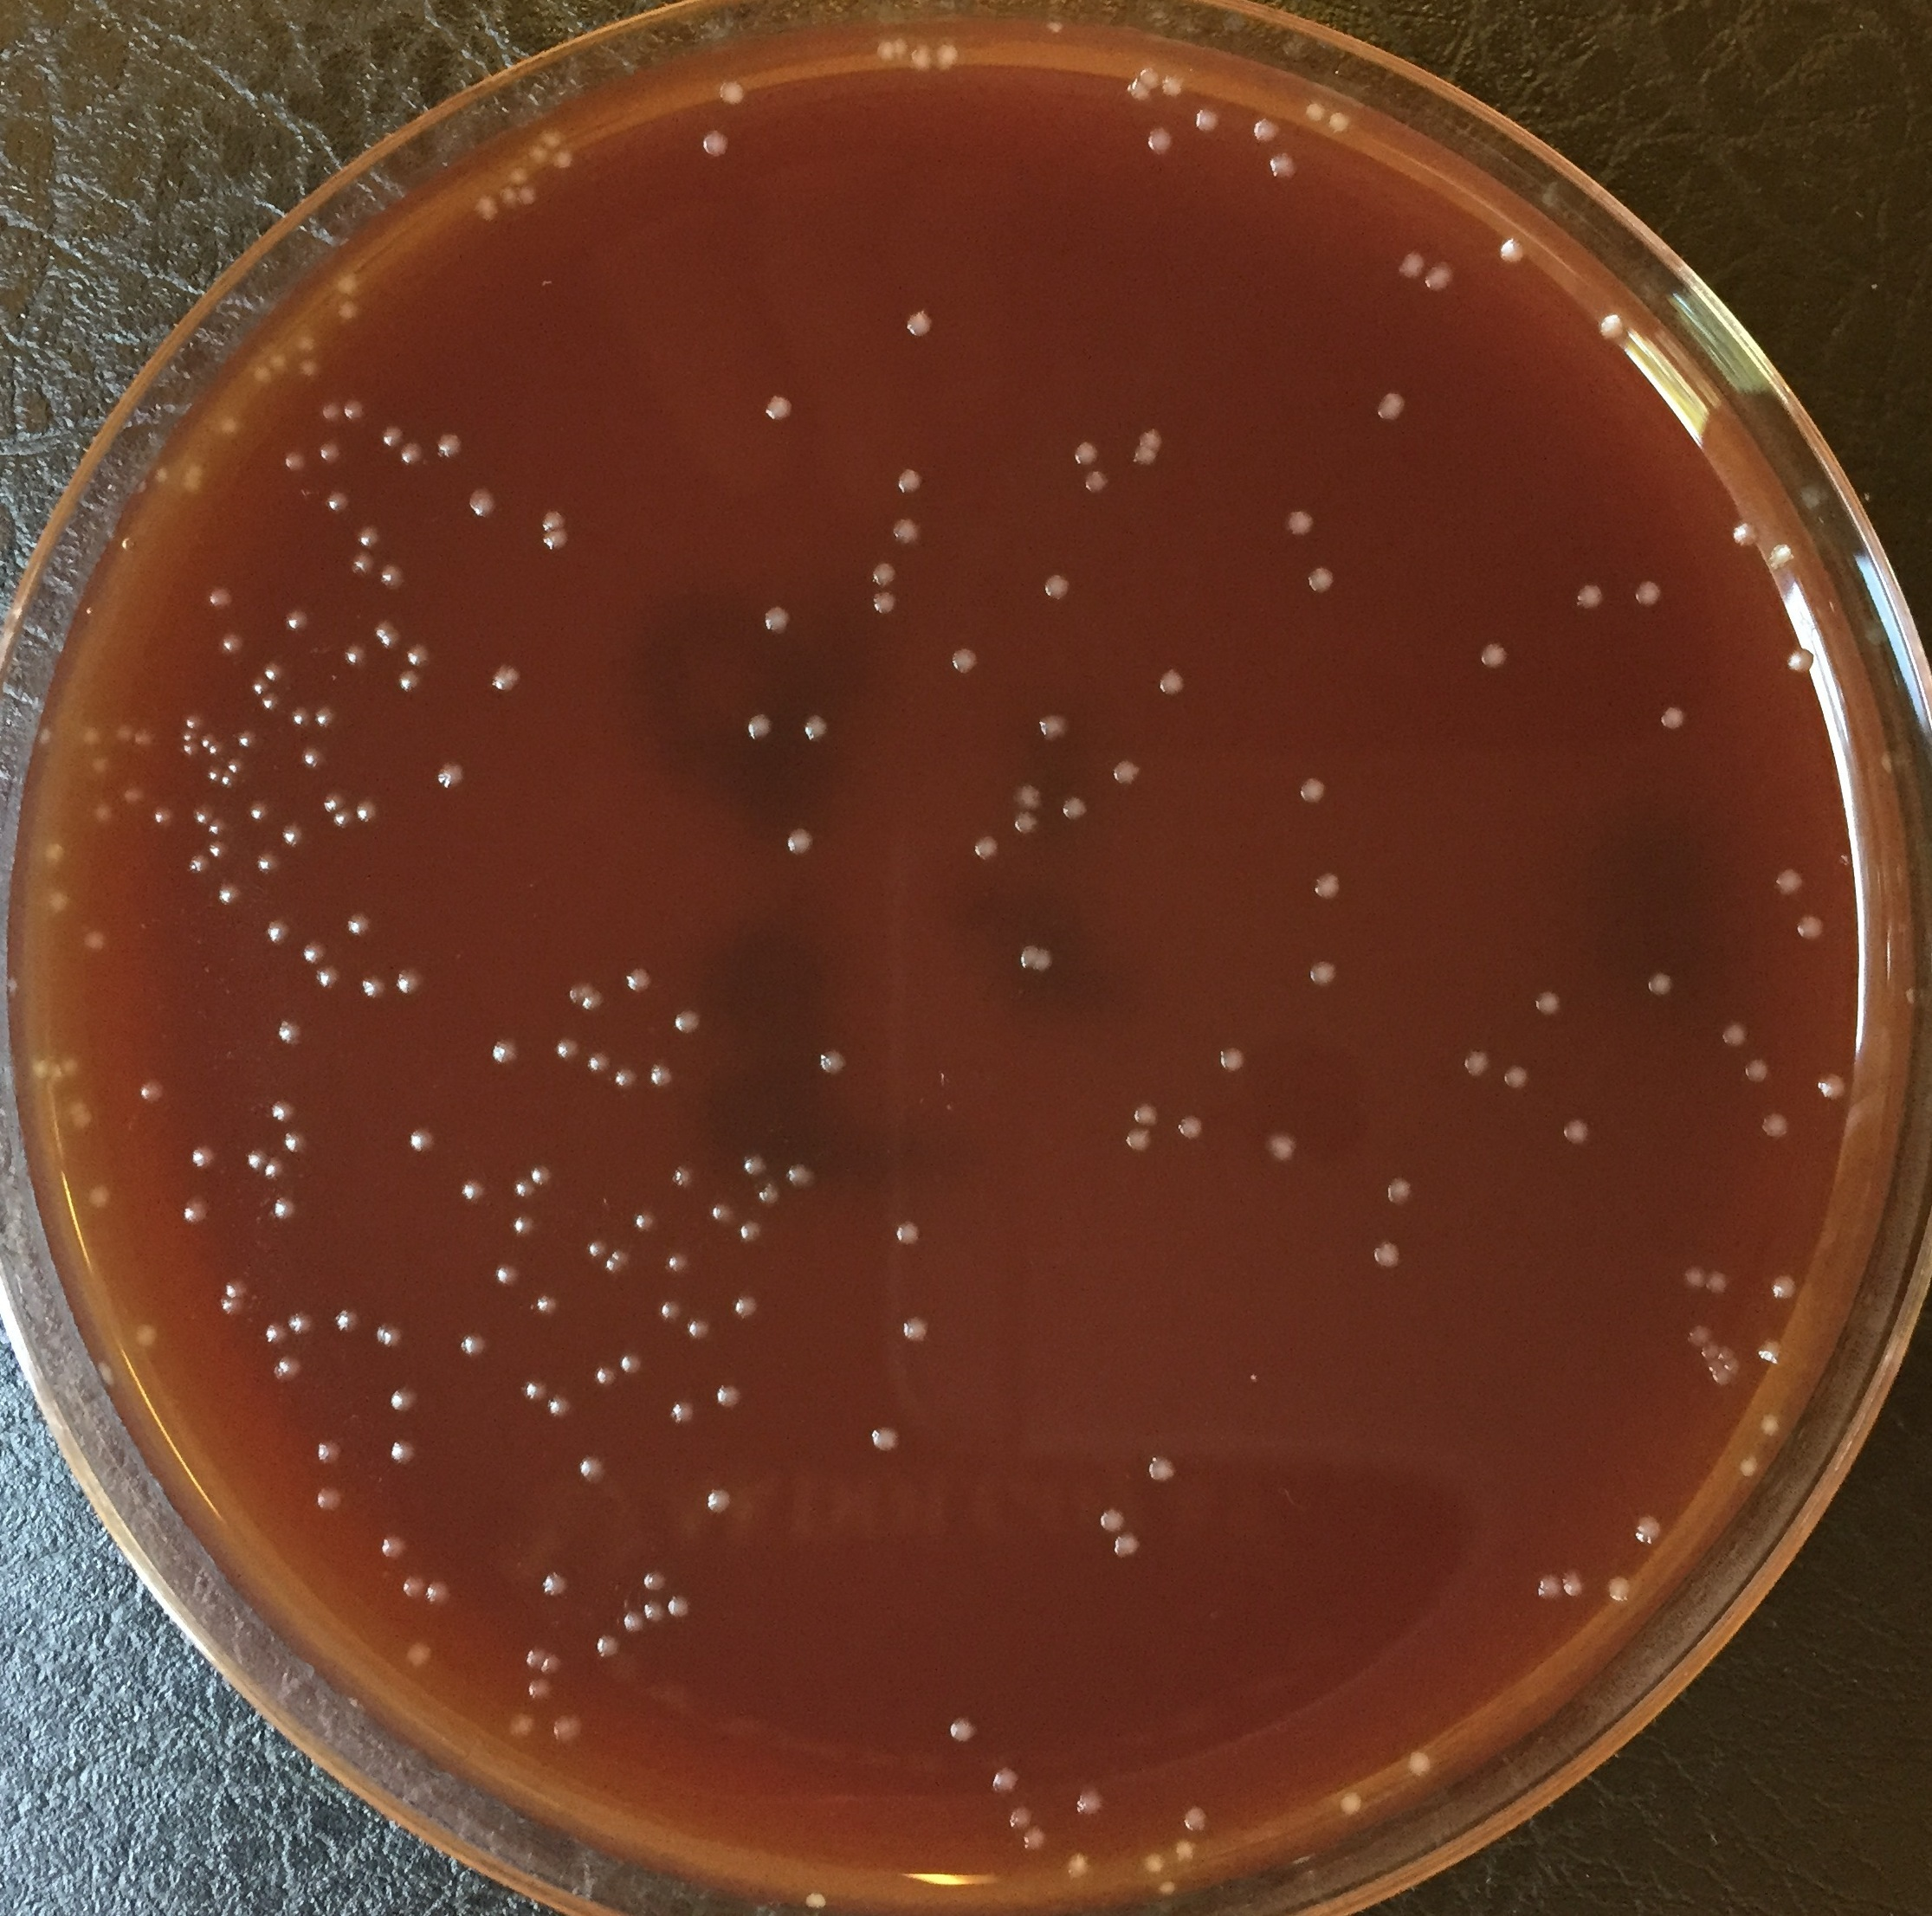sp23: (786, 1162, 826, 1198), (1263, 1130, 1304, 1167), (1365, 1239, 1406, 1276), (760, 604, 798, 639), (1630, 1514, 1671, 1548), (1792, 911, 1832, 944), (1814, 1070, 1851, 1105), (1035, 711, 1072, 746), (1556, 1563, 1590, 1602), (1423, 261, 1462, 295), (760, 391, 800, 423), (900, 311, 937, 344), (1281, 507, 1321, 537), (1460, 1047, 1495, 1081), (465, 484, 498, 519), (1383, 1174, 1416, 1209), (744, 711, 777, 746), (1011, 781, 1046, 814), (751, 1181, 783, 1218), (547, 1711, 584, 1742), (1474, 640, 1511, 672), (1304, 563, 1341, 595), (402, 1639, 435, 1672), (1785, 642, 1820, 674), (1495, 235, 1530, 267), (1374, 391, 1409, 423), (486, 663, 521, 695), (1174, 1109, 1206, 1144), (1062, 793, 1097, 825), (865, 1425, 902, 1455), (1142, 1453, 1179, 1483), (1013, 809, 1051, 837), (270, 1353, 304, 1384), (990, 1765, 1023, 1797), (891, 1218, 925, 1249), (1313, 869, 1344, 902), (1065, 1849, 1095, 1884), (1758, 1111, 1793, 1140), (1772, 867, 1807, 897), (1593, 312, 1628, 342), (969, 832, 1004, 861), (1297, 776, 1332, 805), (1072, 1783, 1100, 1819), (291, 356, 328, 384), (1532, 1570, 1563, 1602), (1162, 72, 1193, 104), (932, 42, 963, 74), (374, 1321, 407, 1351), (386, 1384, 419, 1414), (700, 1486, 733, 1516), (1121, 1123, 1155, 1153), (1156, 667, 1190, 697), (891, 514, 921, 547), (1039, 572, 1072, 602), (946, 1714, 981, 1742), (1751, 1339, 1786, 1367), (816, 1047, 851, 1076), (181, 463, 207, 500), (1600, 1576, 1632, 1605), (377, 561, 409, 591), (395, 967, 425, 998), (553, 1033, 583, 1065), (784, 825, 816, 854), (207, 584, 235, 618), (1718, 1019, 1751, 1047), (1144, 126, 1177, 154), (1265, 151, 1299, 179), (714, 79, 748, 107), (349, 547, 377, 581), (1111, 1534, 1144, 1562), (898, 1314, 932, 1342), (1216, 1044, 1249, 1072), (491, 1035, 525, 1063), (1111, 760, 1144, 788), (893, 468, 927, 497), (1532, 990, 1567, 1016), (388, 1437, 418, 1467), (1020, 1823, 1049, 1853), (1183, 1802, 1213, 1832), (1397, 249, 1427, 279), (470, 195, 500, 225), (623, 967, 653, 997), (330, 1307, 361, 1335), (539, 1570, 570, 1598), (1646, 970, 1678, 998), (1634, 579, 1665, 607), (1728, 521, 1760, 549), (435, 760, 463, 791), (137, 1077, 168, 1105), (407, 1125, 435, 1156), (1304, 958, 1335, 986), (669, 1163, 697, 1195), (802, 714, 830, 746), (712, 1383, 746, 1409), (314, 1439, 347, 1465), (577, 1453, 604, 1486), (1769, 1272, 1802, 1298), (263, 342, 290, 375), (948, 647, 981, 674), (1072, 442, 1106, 468), (221, 409, 246, 444), (684, 1318, 719, 1342), (460, 1330, 490, 1358), (312, 1483, 342, 1511), (1137, 1846, 1165, 1876), (1500, 1063, 1530, 1091), (1658, 704, 1688, 732), (1253, 118, 1283, 146), (700, 128, 728, 158), (353, 523, 383, 551), (358, 972, 386, 1002), (274, 1018, 302, 1047), (82, 1184, 112, 1212), (1097, 1504, 1125, 1534), (223, 1274, 254, 1300), (1574, 584, 1606, 611), (1765, 542, 1797, 568), (432, 432, 463, 458), (344, 911, 376, 937), (1132, 1100, 1163, 1126), (521, 1377, 555, 1402), (297, 746, 330, 770), (286, 1309, 314, 1337), (507, 1711, 535, 1739), (1170, 1837, 1199, 1865), (1337, 1790, 1365, 1818), (182, 1197, 211, 1225), (544, 1393, 574, 1419), (379, 1534, 409, 1560), (665, 1593, 691, 1623), (1005, 1804, 1035, 1830), (1744, 1056, 1771, 1086), (44, 888, 74, 914), (458, 1177, 484, 1207), (869, 560, 898, 586), (869, 591, 898, 618), (540, 528, 572, 553), (732, 1295, 760, 1321), (425, 1579, 453, 1605), (528, 1674, 555, 1702), (1563, 1116, 1590, 1144), (332, 268, 360, 295), (535, 125, 563, 151), (549, 146, 577, 172), (339, 397, 367, 423), (397, 439, 423, 467), (404, 642, 432, 668), (254, 847, 283, 874), (277, 823, 305, 849), (353, 798, 381, 825), (91, 798, 118, 826), (268, 1098, 297, 1125), (283, 1128, 311, 1155), (270, 1195, 298, 1221), (741, 1153, 769, 1179), (218, 1295, 247, 1319), (1407, 1751, 1432, 1781), (909, 44, 934, 74), (490, 1263, 521, 1286), (244, 1146, 267, 1177), (593, 1363, 619, 1390), (597, 1634, 623, 1660), (1704, 1267, 1730, 1293), (1191, 105, 1218, 132), (1325, 109, 1351, 135), (281, 449, 307, 475), (397, 668, 423, 695), (214, 879, 240, 905), (314, 963, 340, 990), (648, 1062, 674, 1088), (667, 1398, 695, 1423), (1155, 1877, 1183, 1902), (333, 297, 361, 321), (318, 400, 346, 425), (133, 1319, 158, 1348), (633, 1211, 662, 1235), (298, 939, 328, 962), (119, 784, 149, 807), (81, 928, 111, 951), (263, 1321, 290, 1346), (400, 1574, 425, 1600), (642, 1598, 667, 1625), (1757, 1412, 1781, 1439), (1302, 98, 1327, 125), (325, 486, 349, 512), (265, 918, 290, 944), (737, 1219, 763, 1244), (567, 981, 593, 1005), (533, 1293, 562, 1316), (674, 1009, 702, 1032), (802, 1888, 826, 1912), (379, 423, 404, 447), (342, 642, 367, 667), (330, 805, 354, 830), (58, 1056, 82, 1081), (1084, 467, 1109, 491), (79, 726, 105, 749), (619, 1353, 646, 1376), (621, 1607, 644, 1634), (1735, 1455, 1758, 1481), (539, 509, 565, 532), (283, 607, 305, 633), (218, 632, 244, 654), (40, 842, 67, 865), (584, 1051, 611, 1074), (133, 726, 154, 754), (1681, 1262, 1702, 1290), (498, 182, 519, 211), (609, 1070, 639, 1090), (523, 1644, 546, 1669), (1128, 79, 1153, 102), (1139, 67, 1163, 89), (525, 146, 549, 168), (319, 439, 342, 463), (528, 1163, 551, 1188), (509, 1214, 533, 1237), (1139, 426, 1163, 449), (658, 1300, 684, 1321), (518, 182, 539, 209), (288, 705, 314, 726), (233, 728, 260, 749), (190, 1146, 216, 1167), (267, 1155, 288, 1181), (1132, 446, 1158, 467), (1016, 939, 1035, 967), (1034, 944, 1053, 972), (151, 804, 174, 826), (190, 802, 212, 825), (540, 1651, 562, 1676), (1688, 1323, 1709, 1348), (890, 37, 911, 61), (254, 365, 279, 386), (260, 658, 281, 683), (663, 1253, 688, 1274), (711, 1198, 732, 1223), (583, 991, 607, 1012), (640, 1569, 663, 1590), (874, 40, 897, 61), (258, 690, 281, 711), (321, 791, 344, 812), (209, 837, 230, 860), (204, 816, 226, 837), (511, 1176, 533, 1197), (186, 853, 211, 872), (118, 721, 133, 751), (1711, 1367, 1732, 1388), (314, 707, 335, 728), (504, 167, 526, 186), (88, 754, 111, 774), (584, 1239, 607, 1258), (383, 632, 404, 651), (184, 711, 205, 730), (247, 798, 267, 819), (372, 619, 395, 637), (251, 677, 270, 697), (179, 739, 198, 758), (225, 754, 244, 772), (205, 763, 223, 783), (604, 1256, 623, 1274), (612, 1248, 632, 1265), (32, 1058, 47, 1079), (67, 1100, 88, 1116), (219, 772, 237, 790), (1700, 1342, 1718, 1358), (1720, 1344, 1735, 1360), (182, 726, 198, 742), (1706, 1358, 1723, 1372), (1727, 1358, 1741, 1376), (198, 732, 216, 746), (207, 742, 223, 754)
